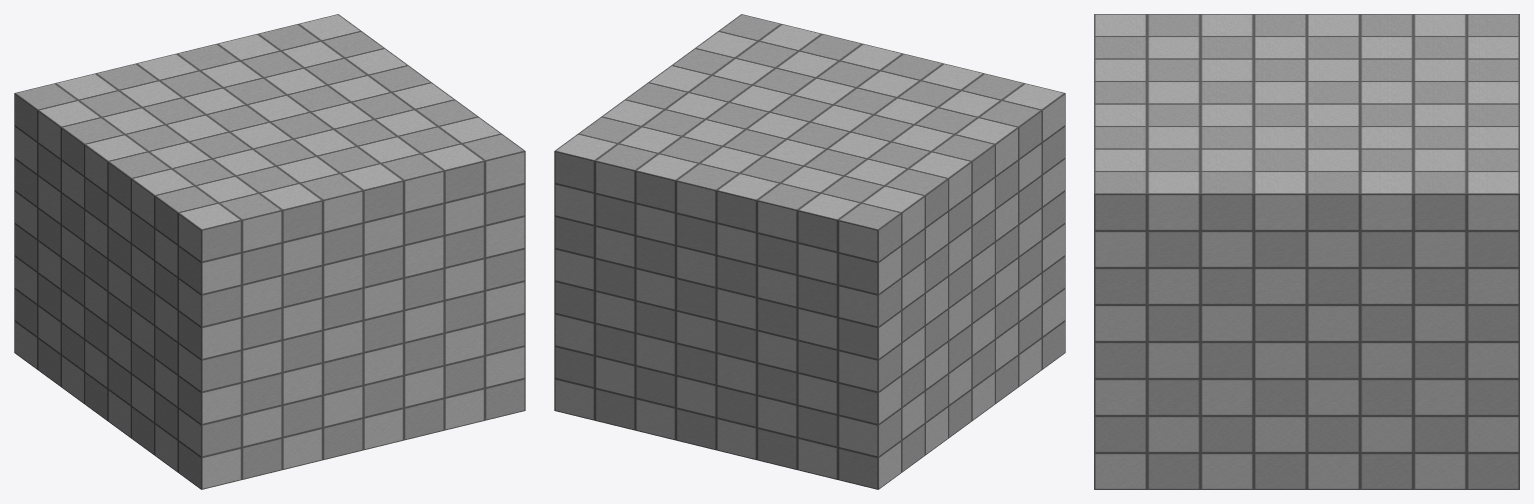
Rendered from model_test_counter.obj.
The picture shows the model from 3 angles, left to right: view 1: azimuth 30°, elevation 25°; view 2: azimuth 150°, elevation 25°; view 3: azimuth 270°, elevation 25°; orthographic projection. The views are drawn at different scales.
Visible parts, largest first — view 1: test_asset; view 2: test_asset; view 3: test_asset.
Part boxes in pixels (box(x1,y1,x2,y2)): test_asset: box(14, 14, 525, 489); test_asset: box(554, 14, 1065, 489); test_asset: box(1094, 14, 1519, 489).
Bounding box in the file's own units: 1.2 × 0.92 × 1.2.
Materials: 1 (1 with a texture image).
